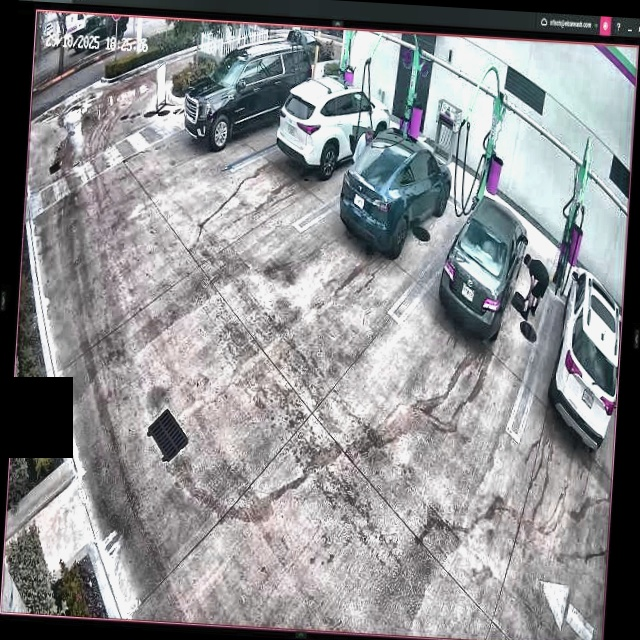Car: (337, 123, 452, 258), (438, 196, 530, 343), (276, 71, 390, 180)
